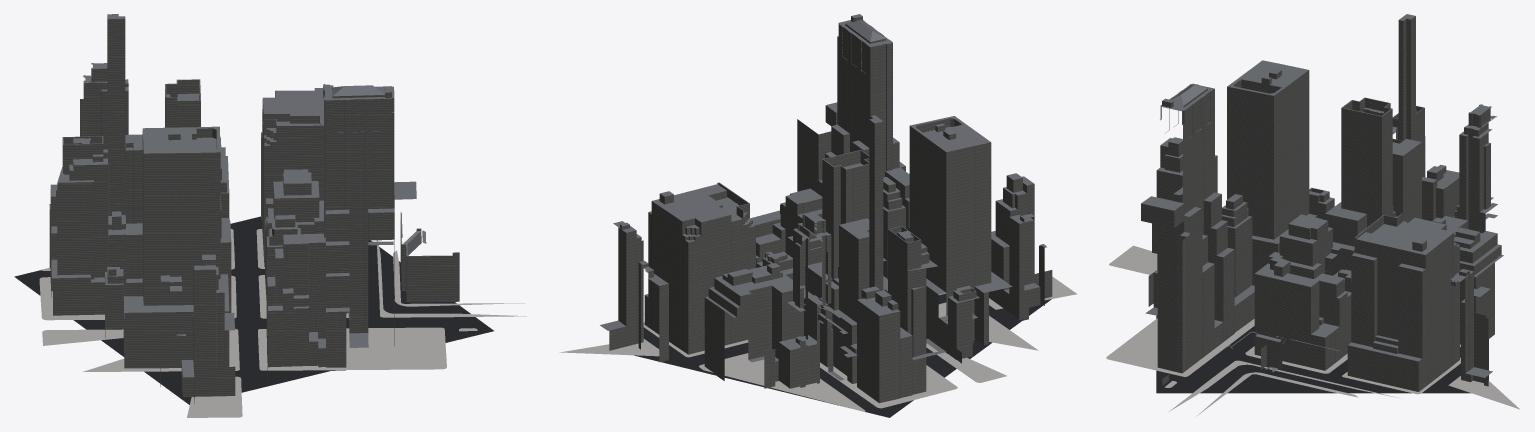
The picture shows the model from 3 angles, left to right: view 1: azimuth 30°, elevation 25°; view 2: azimuth 150°, elevation 25°; view 3: azimuth 270°, elevation 25°; orthographic projection. The views are drawn at different scales.
Parts seen in each view (by area): view 1: t5_7, detail; view 2: t5_7, detail; view 3: t5_7, detail.
Part boxes in pixels (left/top/right/bottom): t5_7: left=14, top=14, right=493, bottom=404; detail: left=39, top=229, right=526, bottom=417; t5_7: left=600, top=14, right=1052, bottom=417; detail: left=559, top=276, right=1077, bottom=411; t5_7: left=1141, top=14, right=1503, bottom=393; detail: left=1106, top=245, right=1519, bottom=416.
Bounding box in the file's own units: 335 × 220 × 312.
Materials: 4 (2 with a texture image).
